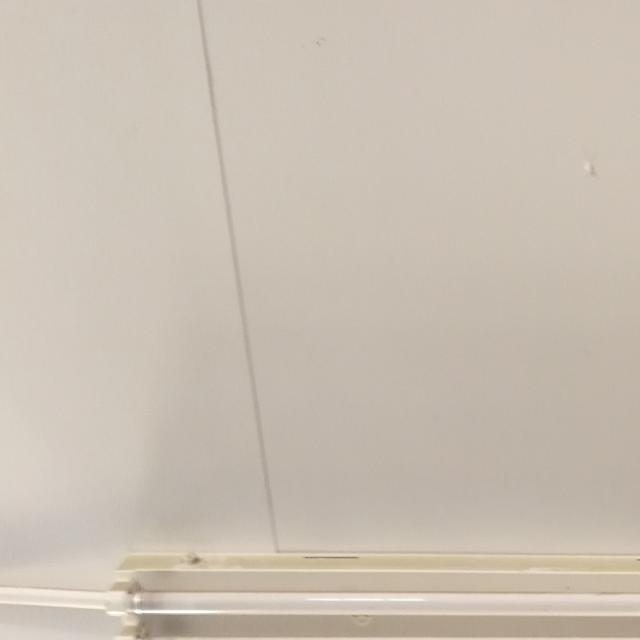fluorescent tube: (69, 505, 640, 640)
